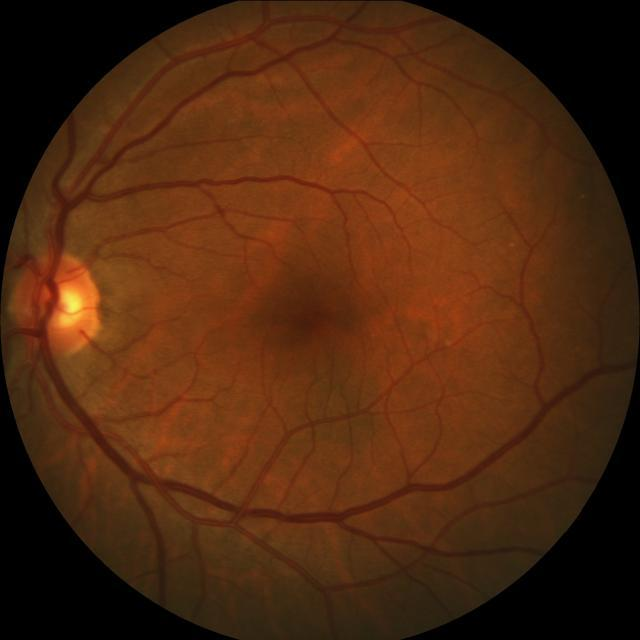OC: (43, 286, 84, 327)
OD: (9, 247, 100, 357)
